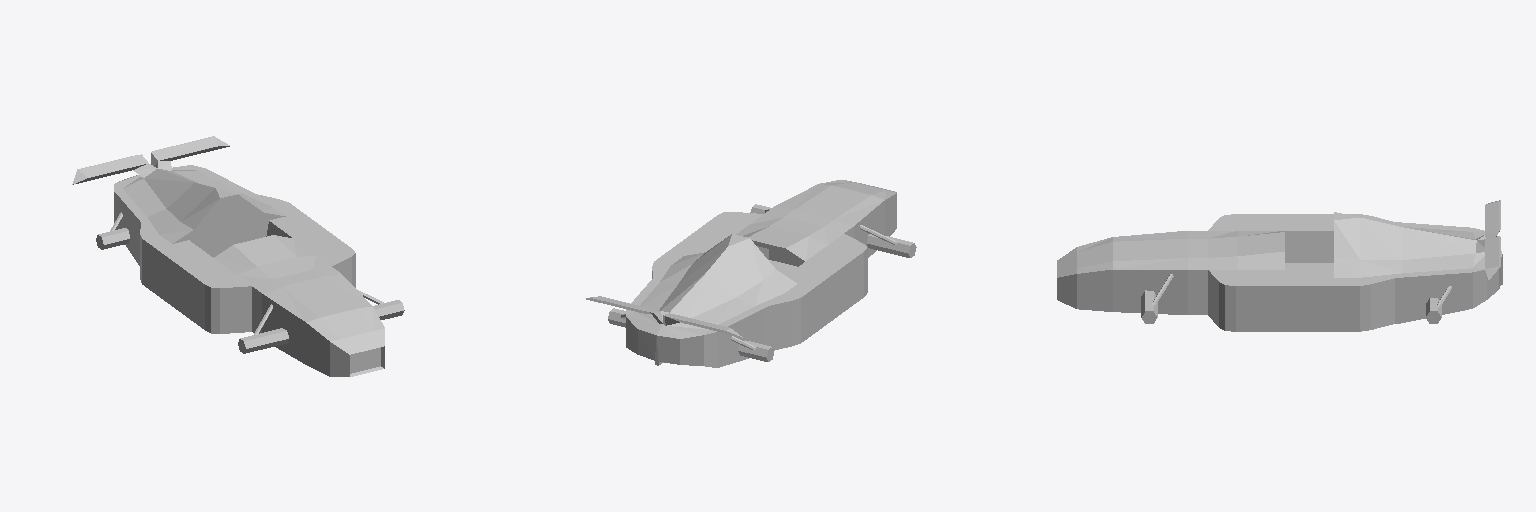
File: car5.obj
3 views of the same model, side by side, from view 1: azimuth 30°, elevation 25°; view 2: azimuth 150°, elevation 25°; view 3: azimuth 270°, elevation 25° (orthographic).
Parts seen in each view (by area): view 1: Cube; view 2: Cube; view 3: Cube.
Part boxes in pixels (left/top/right/bottom): Cube: left=72, top=136, right=404, bottom=376; Cube: left=586, top=180, right=916, bottom=367; Cube: left=1057, top=200, right=1502, bottom=331.
Size of the model in its own units: 1.59 by 0.7623 by 3.86.